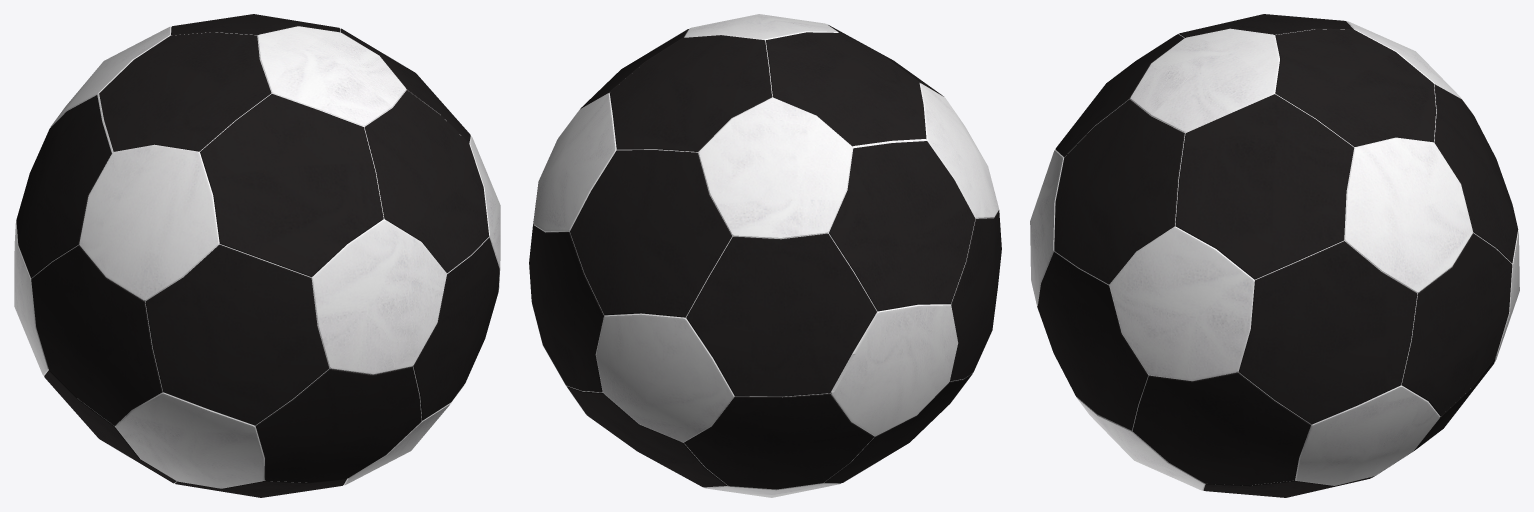
File: ball 1089.fbx
3 renders of one model, left to right at view 1: azimuth 30°, elevation 25°; view 2: azimuth 150°, elevation 25°; view 3: azimuth 270°, elevation 25°, orthographic. The views are drawn at different scales.
Visible parts, largest first — view 1: pSolid2; view 2: pSolid2; view 3: pSolid2.
Boxes of the visible parts, x1=… form: pSolid2: x1=14, y1=14, x2=500, y2=497; pSolid2: x1=529, y1=14, x2=1001, y2=497; pSolid2: x1=1030, y1=14, x2=1519, y2=497.
Size of the model in its own units: 4.78 by 4.82 by 4.83.
